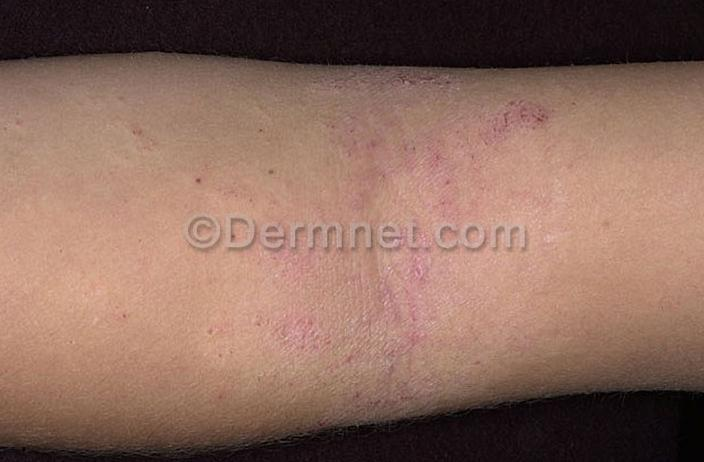excoriacion 2: (273, 67, 561, 426)
exudacion 1: (331, 68, 469, 89), (475, 98, 549, 136)
